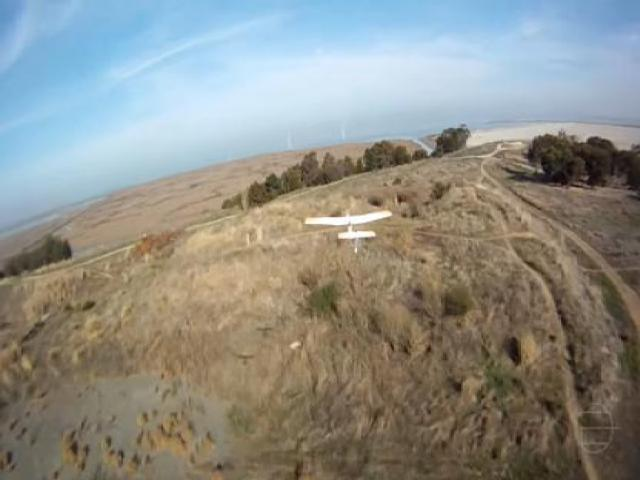uav: (300, 205, 398, 257)
